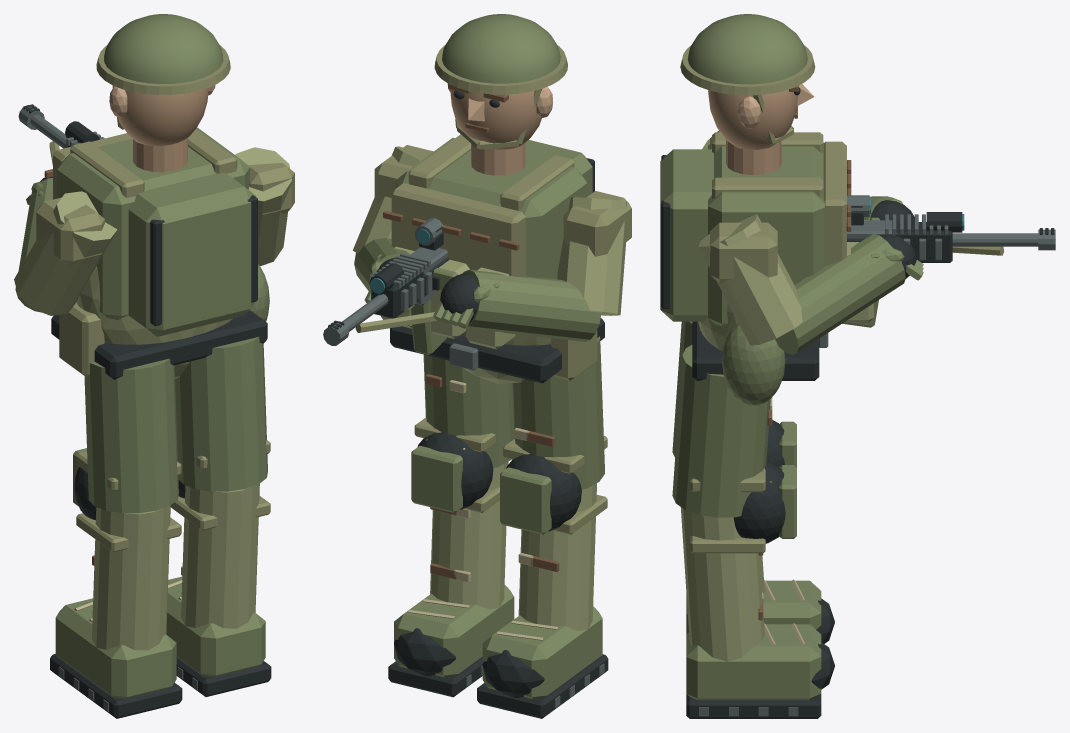
File: soldier.glb
3 renders of one model, left to right at view 1: azimuth 30°, elevation 25°; view 2: azimuth 150°, elevation 25°; view 3: azimuth 270°, elevation 25°, orthographic.
Visible parts, largest first — view 1: soldier; view 2: soldier; view 3: soldier.
Part boxes in pixels (x1,y1,x2,y2): soldier: (14,14,294,718); soldier: (323,14,631,718); soldier: (660,14,1055,718).
Size of the model in its own units: 0.7674 by 1.84 by 0.9948.
